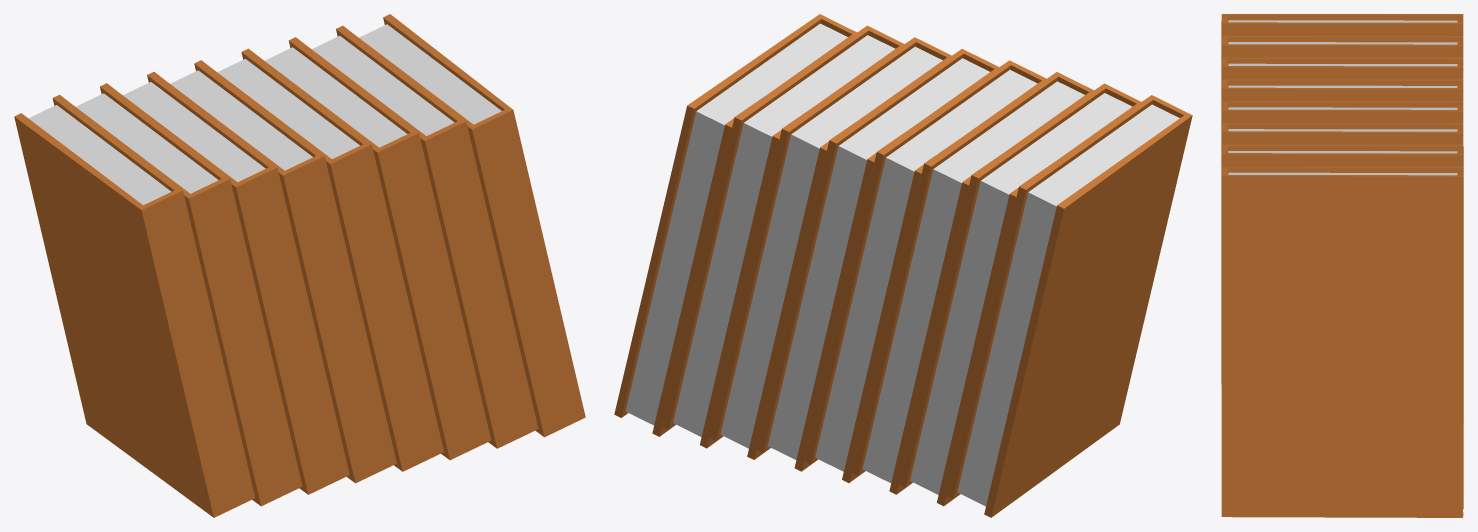
File: Buku Banyak.fbx
3 renders of one model, left to right at view 1: azimuth 30°, elevation 25°; view 2: azimuth 150°, elevation 25°; view 3: azimuth 270°, elevation 25°, orthographic. The views are drawn at different scales.
Parts seen in each view (by area): view 1: Cube.021; view 2: Cube.021; view 3: Cube.021.
Boxes of the visible parts, x1,y1,x2,y2 form: Cube.021: [14, 14, 585, 517]; Cube.021: [614, 14, 1192, 517]; Cube.021: [1221, 14, 1463, 517].
Size of the model in its own units: 95.93 by 68.82 by 47.48.
Materials: 1 (1 with a texture image).
